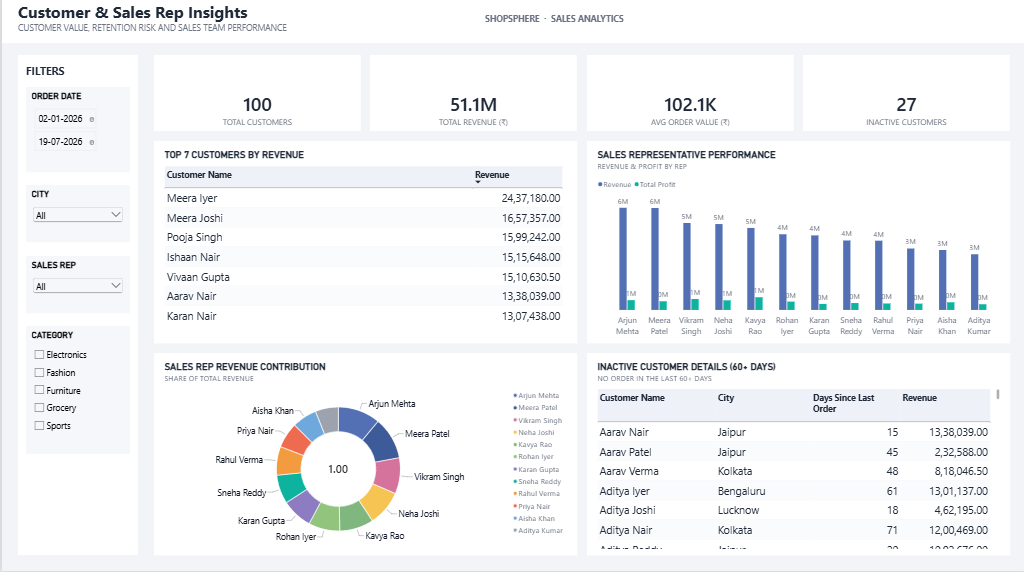

Layout of this report page (visuals, bound fields, positions):
{"tool":"powerbi","page":{"name":"Customer & Sales Rep Insights","canvas":[2560,1440],"ordinal":2},"visuals":[{"type":"textbox","box":[0,0,2560,120],"z":0},{"type":"textbox","box":[40,150,300,1250],"z":1000},{"type":"card","fields":{"Values":["Count(shopsphere customers.customer_id)"]},"box":[380,150,517,190],"z":2000},{"type":"card","fields":{"Values":["shopsphere order_details.Revenue"]},"box":[921,150,517,190],"z":3000},{"type":"card","fields":{"Values":["shopsphere order_details.AOV"]},"box":[1462,150,517,190],"z":4000},{"type":"card","fields":{"Values":["shopsphere customers.Inactive Customers"]},"box":[2003,150,517,190],"z":5000},{"type":"tableEx","title":"TOP 7 CUSTOMERS BY REVENUE","fields":{"Values":["shopsphere customers.customer_name","shopsphere order_details.Revenue"]},"box":[380,364,1058,506],"z":6000},{"type":"clusteredColumnChart","title":"SALES REPRESENTATIVE PERFORMANCE","fields":{"Category":["shopsphere sales_reps.sales_rep_name"],"Y":["shopsphere order_details.Revenue","shopsphere order_details.Total Profit"]},"box":[1462,364,1058,506],"z":7000},{"type":"donutChart","title":"SALES REP REVENUE CONTRIBUTION","fields":{"Category":["shopsphere sales_reps.sales_rep_name"],"Y":["shopsphere order_details.Sales Rep Revenue %"]},"box":[380,894,1058,506],"z":8000},{"type":"tableEx","title":"INACTIVE CUSTOMER DETAILS (60+ DAYS)","fields":{"Values":["shopsphere customers.customer_name","shopsphere customers.city","shopsphere orders.Days Since Last Order","shopsphere order_details.Revenue"]},"box":[1462,894,1058,506],"z":9000},{"type":"slicer","title":"ORDER DATE","fields":{"Values":["shopsphere orders.order_date"]},"box":[60,230,260,212.5],"z":10000},{"type":"slicer","title":"CITY","fields":{"Values":["shopsphere customers.city"]},"box":[60,475,260,142.5],"z":11000},{"type":"slicer","title":"SALES REP","fields":{"Values":["shopsphere sales_reps.sales_rep_name"]},"box":[60,652.5,260,142.5],"z":12000},{"type":"slicer","title":"CATEGORY","fields":{"Values":["shopsphere products.category"]},"box":[60,827.5,260,320],"z":13000},{"type":"textbox","box":[40,16,1500,96],"z":14000},{"type":"textbox","box":[1207.5,45,350,65],"z":15000},{"type":"textbox","box":[60,170,260,44],"z":16000}]}

Visuals, with their boxes in screenshot pixels (x1, y1, x2, y2), scaled from the page's 2560x1440 canvas onto the 1024x572 screenshot:
textbox: region(0, 0, 1023, 48)
textbox: region(16, 60, 136, 556)
card - Count(shopsphere customers.customer_id): region(152, 60, 359, 135)
card - shopsphere order_details.Revenue: region(368, 60, 575, 135)
card - shopsphere order_details.AOV: region(585, 60, 792, 135)
card - shopsphere customers.Inactive Customers: region(801, 60, 1008, 135)
"TOP 7 CUSTOMERS BY REVENUE" tableEx: region(152, 145, 575, 346)
"SALES REPRESENTATIVE PERFORMANCE" clusteredColumnChart: region(585, 145, 1008, 346)
"SALES REP REVENUE CONTRIBUTION" donutChart: region(152, 355, 575, 556)
"INACTIVE CUSTOMER DETAILS (60+ DAYS)" tableEx: region(585, 355, 1008, 556)
"ORDER DATE" slicer: region(24, 91, 128, 176)
"CITY" slicer: region(24, 189, 128, 245)
"SALES REP" slicer: region(24, 259, 128, 316)
"CATEGORY" slicer: region(24, 329, 128, 456)
textbox: region(16, 6, 616, 44)
textbox: region(483, 18, 623, 44)
textbox: region(24, 68, 128, 85)
